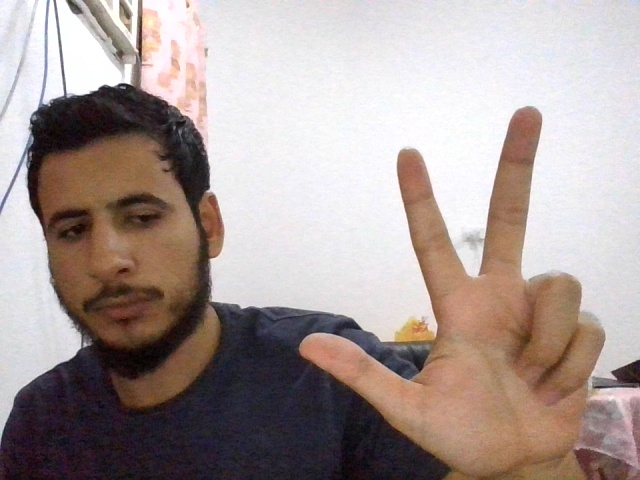Three: (297, 106, 608, 467)
